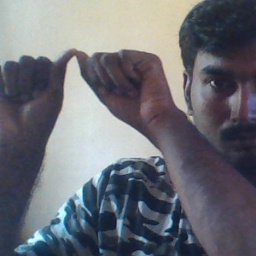A: (19, 38, 135, 128)
